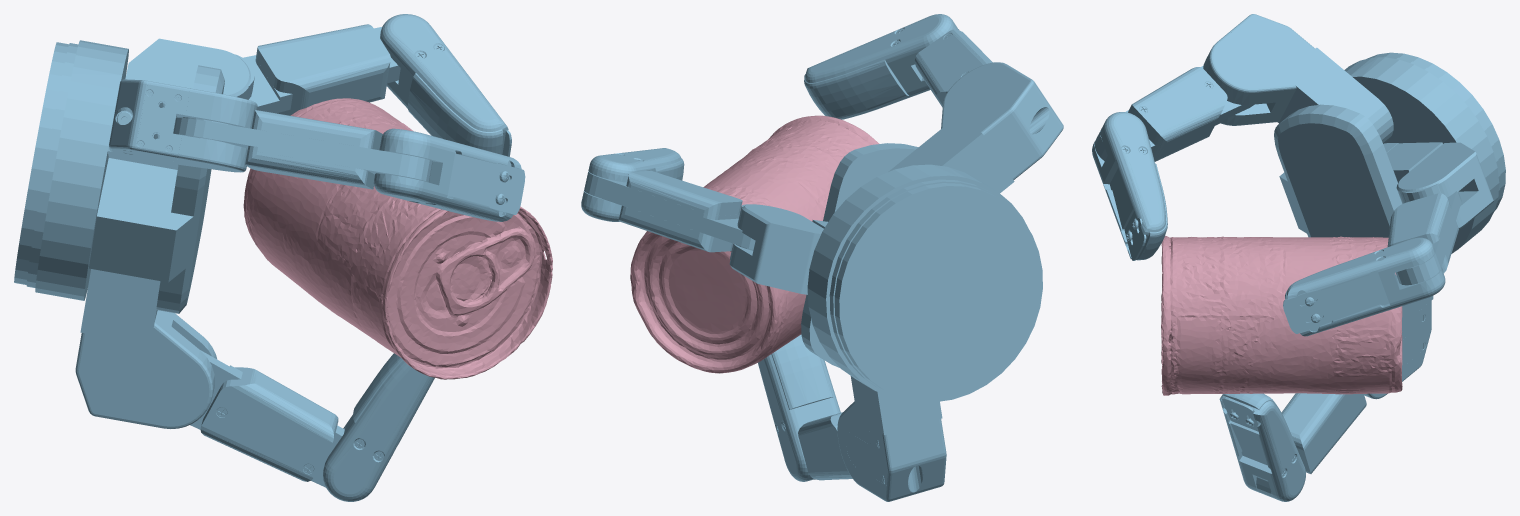
3 views of the same model, side by side, from view 1: azimuth 30°, elevation 25°; view 2: azimuth 150°, elevation 25°; view 3: azimuth 270°, elevation 25° (orthographic). The views are drawn at different scales.
Visible parts, largest first — view 1: world; view 2: world; view 3: world.
Part boxes in pixels (x1,y1,x2,y2): world: (14, 14, 552, 501); world: (581, 14, 1063, 501); world: (1092, 14, 1505, 501).
Bounding box in the file's own units: 0.1828 × 0.183 × 0.1746.
